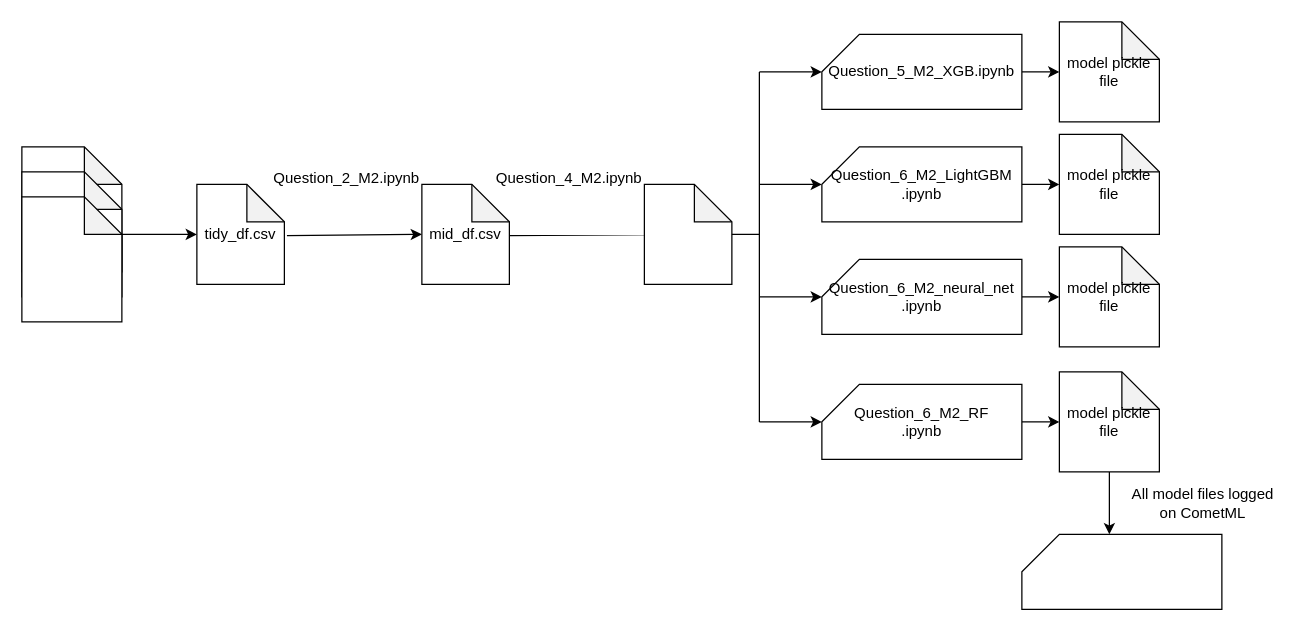
The diagram is 1306 pixels wide and 631 high, and some of its shapes have lost their labels. The shapes that lost their labels are listed below. From the top down, each one's centre as x and y in pixels, then its label:
At [687,233]: "final_df.csv".
At [71,259]: "Raw Data (json files)".
At [1121,571]: "Question_7_M2.ipynb".
